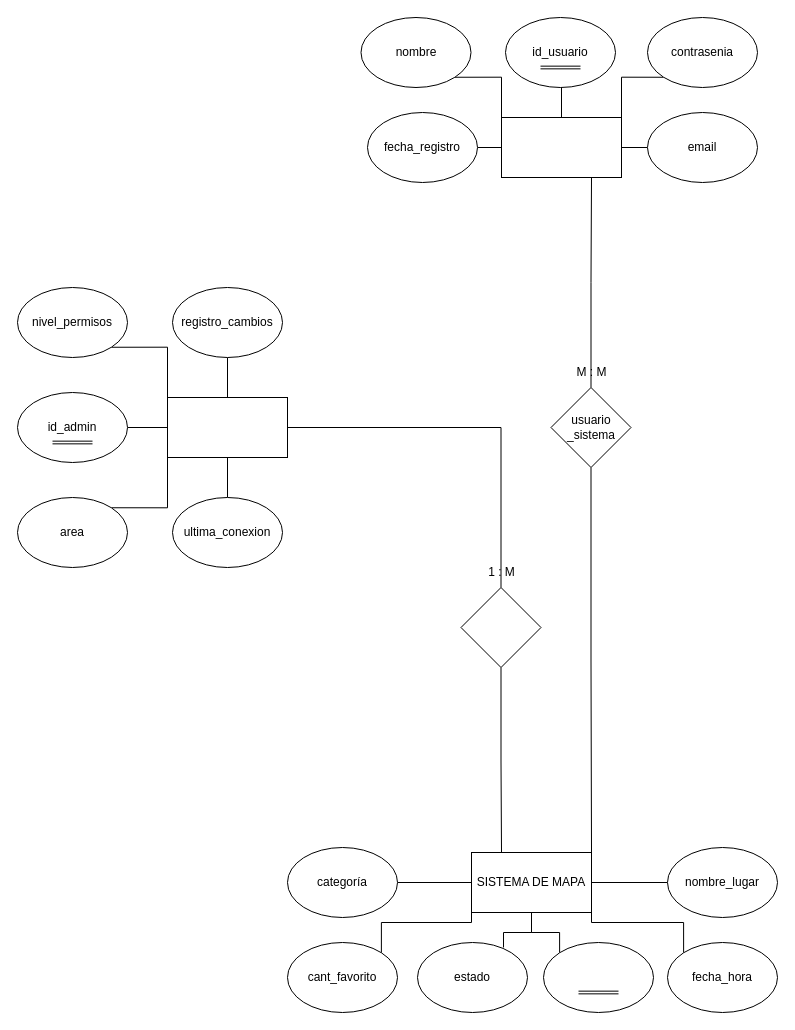
This 795x1030 diagram has some shape labels left out. Each missing label, with the centre of its shape:
"ADMINISTRADOR" goes at (227,427).
"administrador _ sistema" goes at (500,627).
"id_punto" goes at (598,977).
"USUARIO" goes at (561,147).
